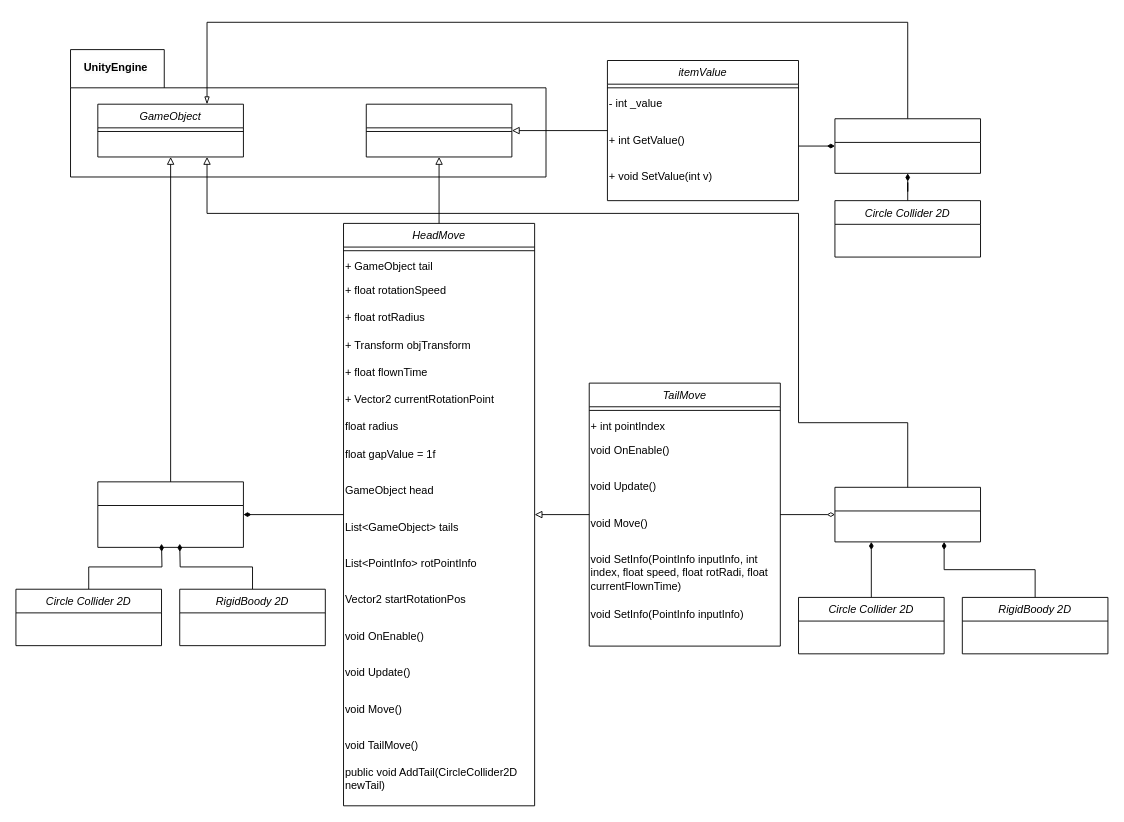
Image size: 1124x822. Some labels were removed from this diagram. Here are the shapes that lost their labels. From the top down, the centre of each, then its label:
At point 438,130: "MonoBeheiva".
At point 907,145: "Item".
At point 170,514: "Head".
At point 907,514: "Tail".
